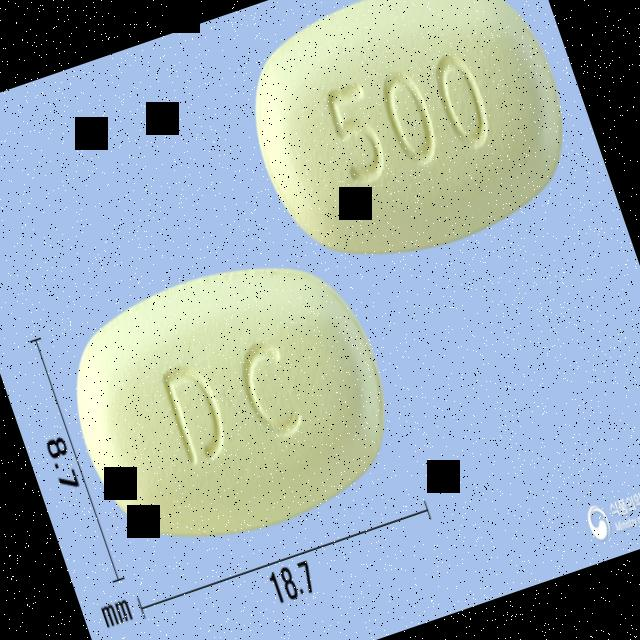Clavix: (42, 222, 423, 583), (219, 0, 599, 297)
